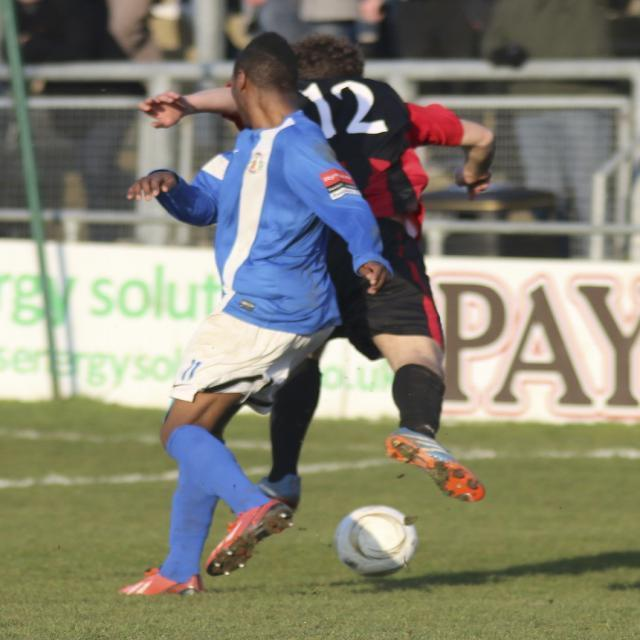football: (316, 500, 431, 592)
